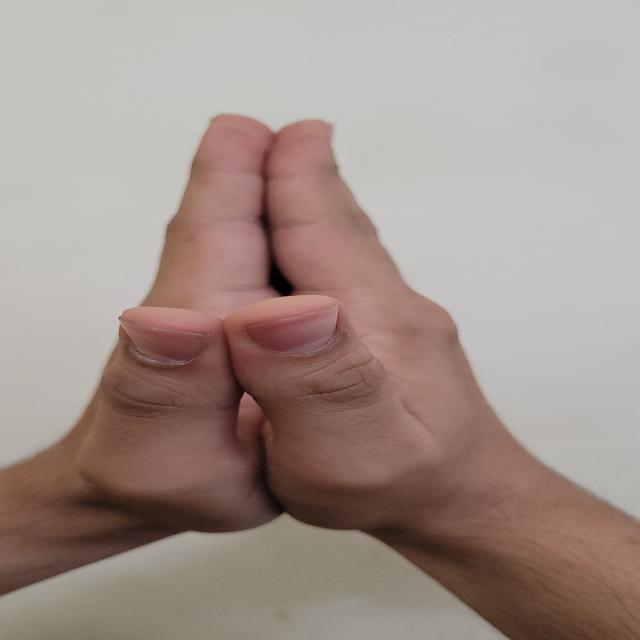Thank You: (48, 82, 524, 586)
